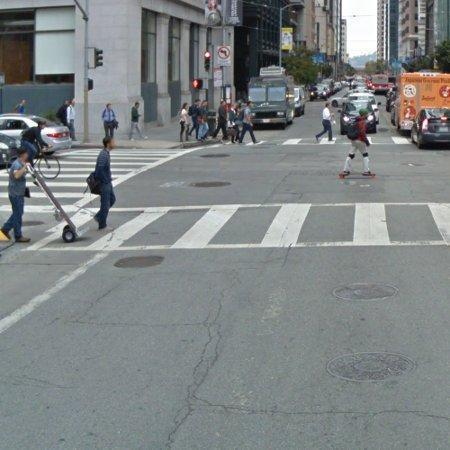crosswalk: (16, 203, 449, 251)
